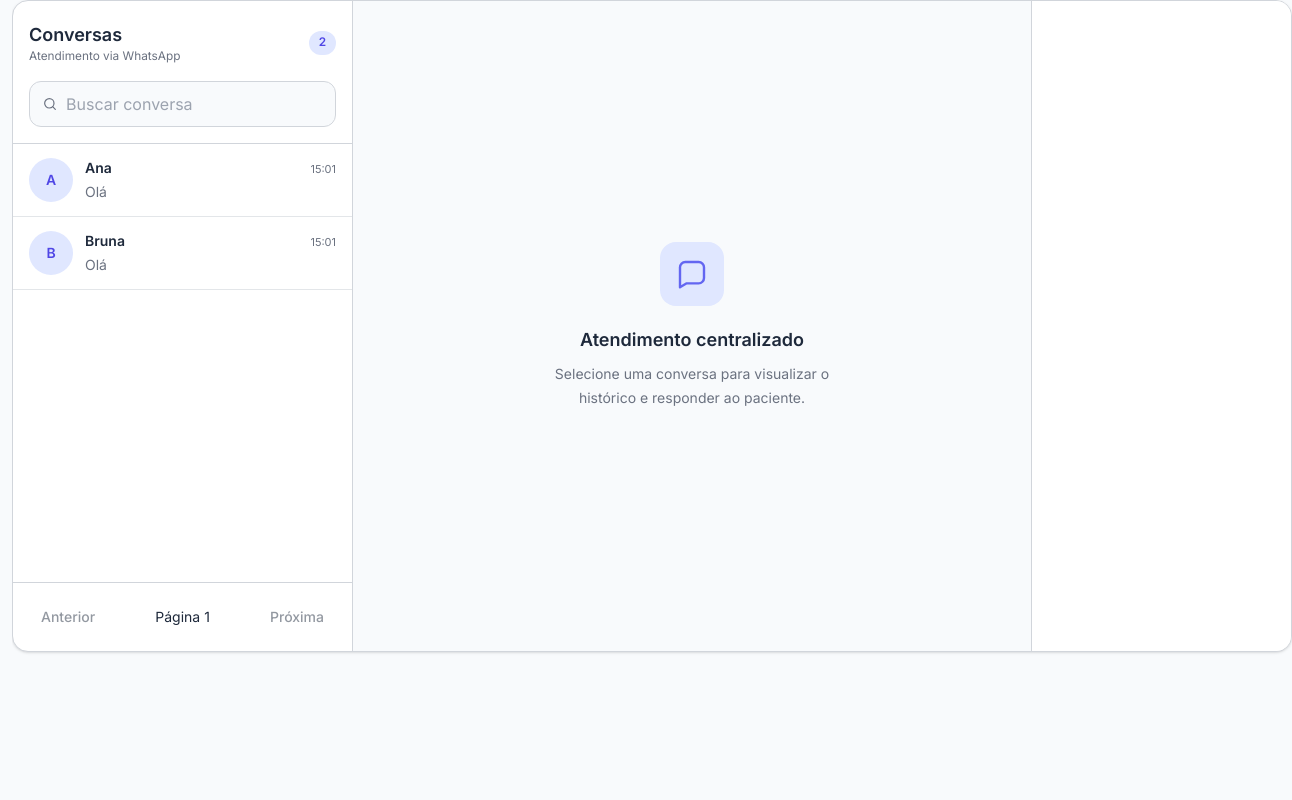
it: AtendimentoPanel › shows delivery failures and paginates older messages
Click the button "A Ana 15:01 Olá" at (51, 180), box top-left (13, 144), bottom-right (352, 217)
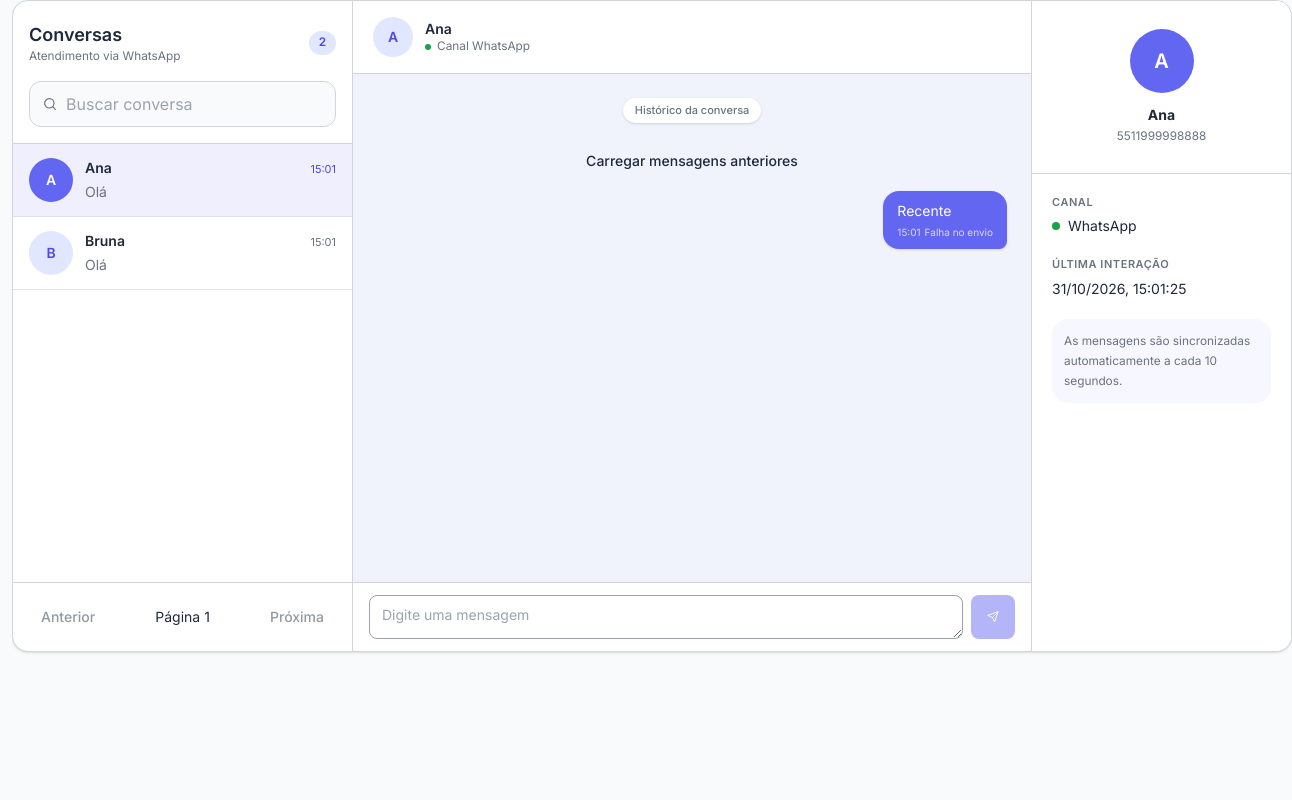
Expected: the text "Falha no envio" is shown, top-left (925, 224), bottom-right (993, 239)
Click the button "Carregar mensagens anteriores" at (692, 160), box top-left (570, 138), bottom-right (814, 182)
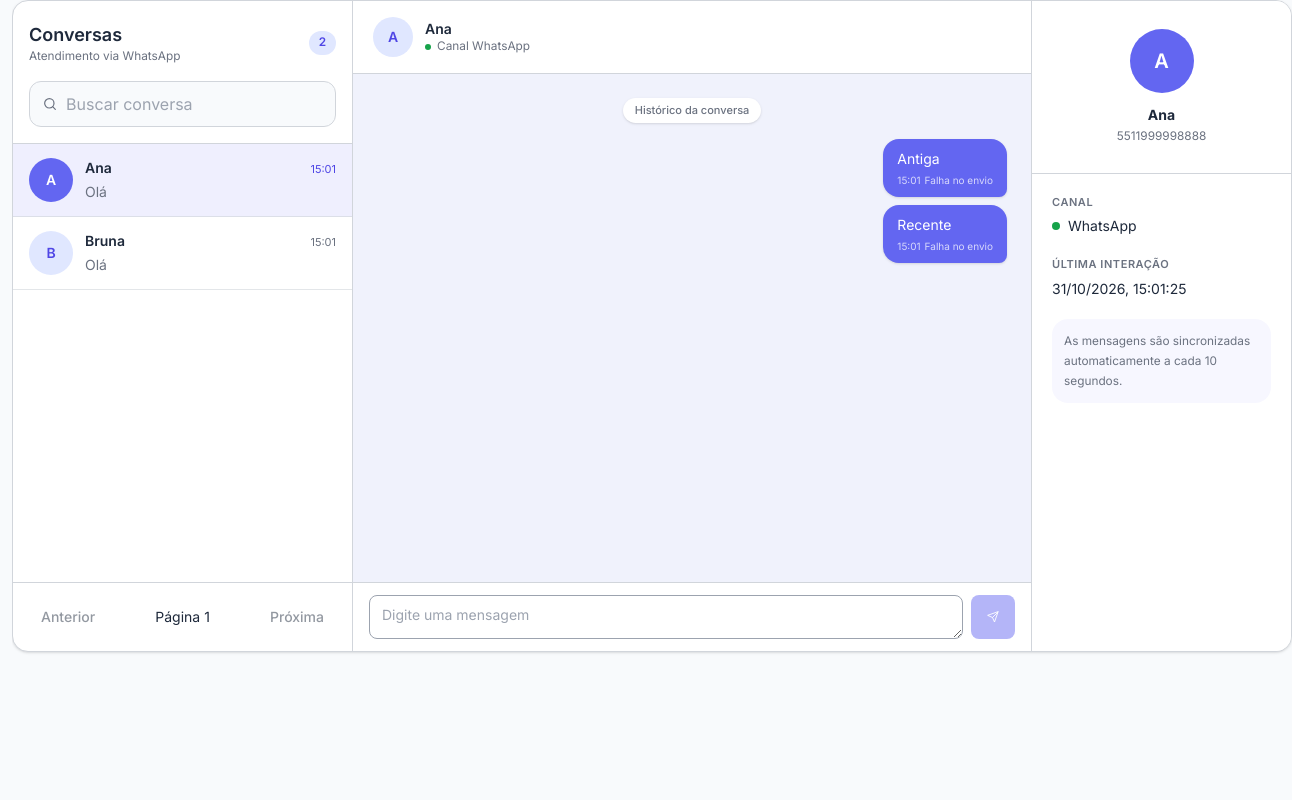
Expected: the text "Antiga" is shown, top-left (897, 150), bottom-right (940, 166)
